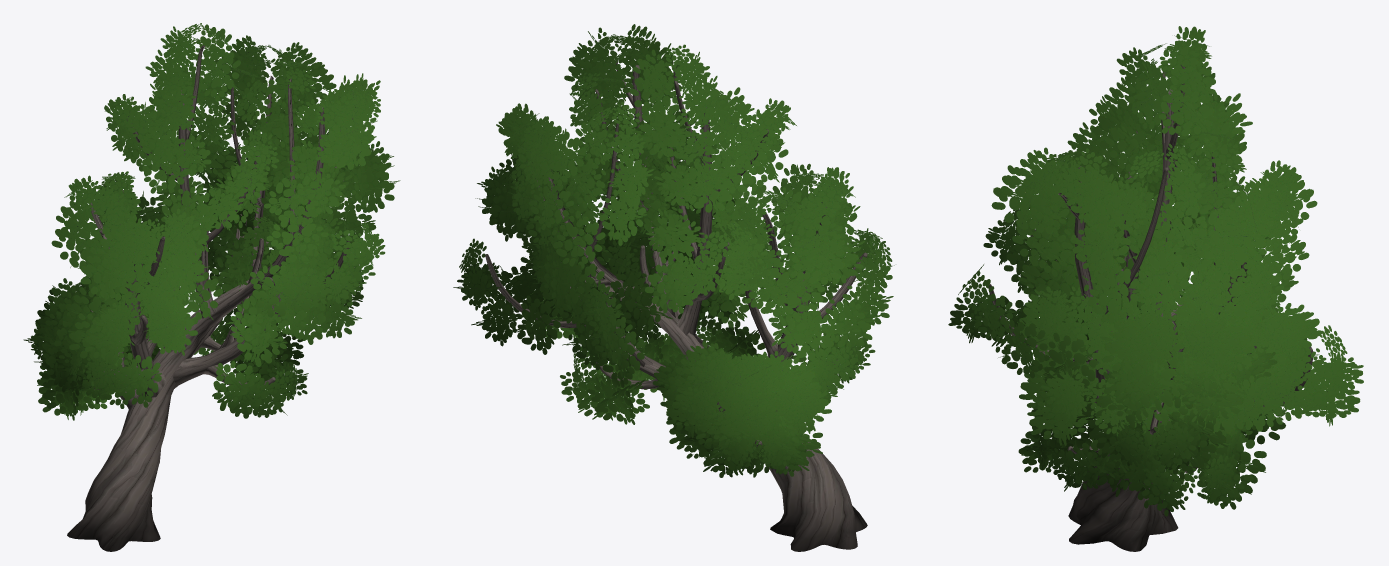
Rendered from twisted_1.glb.
The picture shows the model from 3 angles, left to right: view 1: azimuth 30°, elevation 25°; view 2: azimuth 150°, elevation 25°; view 3: azimuth 270°, elevation 25°; orthographic projection. The views are drawn at different scales.
Parts seen in each view (by area): view 1: TwistedTree_1; view 2: TwistedTree_1; view 3: TwistedTree_1.
Boxes of the visible parts, bbox=[...] form: TwistedTree_1: bbox=[23, 23, 400, 551]; TwistedTree_1: bbox=[453, 24, 894, 551]; TwistedTree_1: bbox=[948, 26, 1363, 551].
Size of the model in its own units: 13.26 by 16.4 by 11.55.
2 materials, 2 textured.
